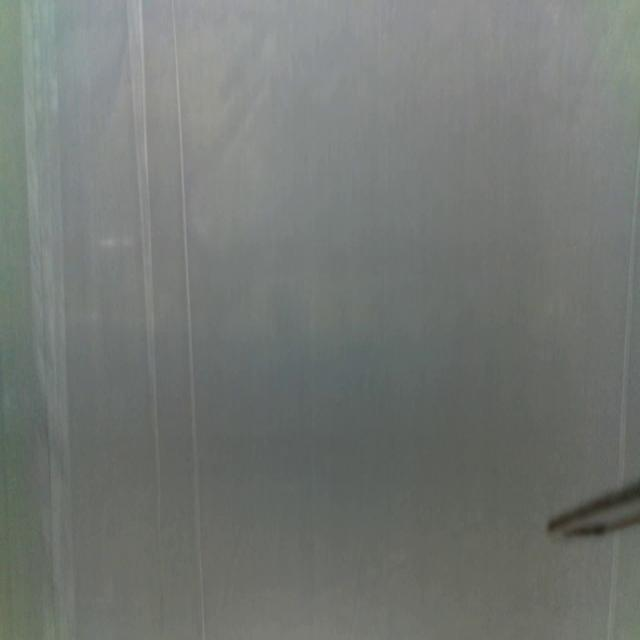crease: (21, 0, 76, 640), (170, 0, 207, 640), (126, 0, 162, 548), (616, 137, 640, 478), (608, 534, 622, 640)
